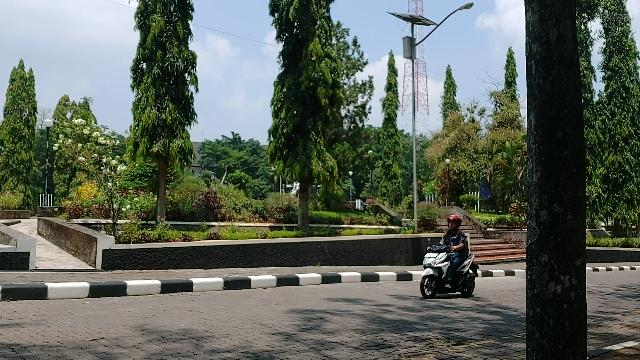helm: (448, 216, 463, 230)
motor: (421, 247, 480, 299)
